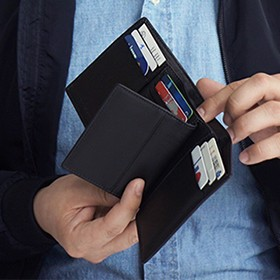monedero: (60, 15, 234, 268)
